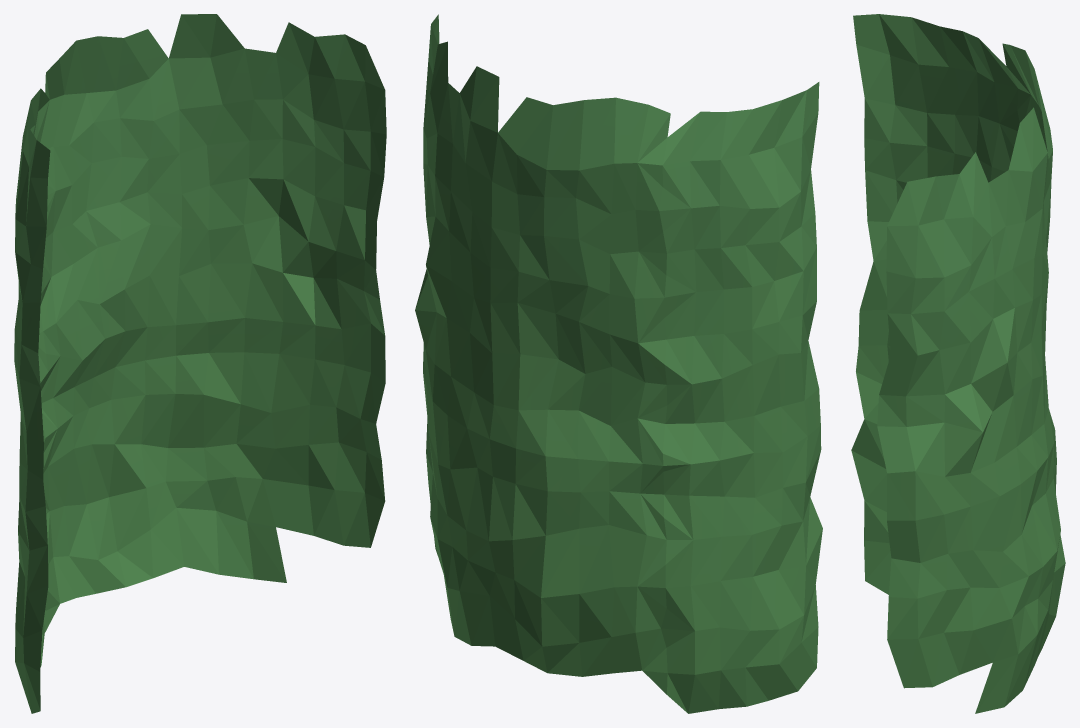
Rendered from Map_prop_06.FBX.
3 views of the same model, side by side, from view 1: azimuth 30°, elevation 25°; view 2: azimuth 150°, elevation 25°; view 3: azimuth 270°, elevation 25° (orthographic). The views are drawn at different scales.
Parts seen in each view (by area): view 1: Map_prop_06; view 2: Map_prop_06; view 3: Map_prop_06.
Part boxes in pixels (bbox=[...]): Map_prop_06: bbox=[14, 14, 386, 713]; Map_prop_06: bbox=[415, 14, 822, 713]; Map_prop_06: bbox=[851, 14, 1065, 713].
Size of the model in its own units: 11.22 by 17.84 by 5.76.
